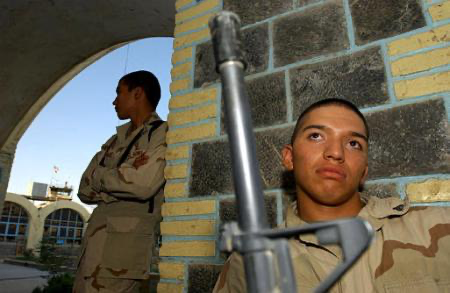Face: (294, 126, 378, 206), (108, 77, 134, 121)
